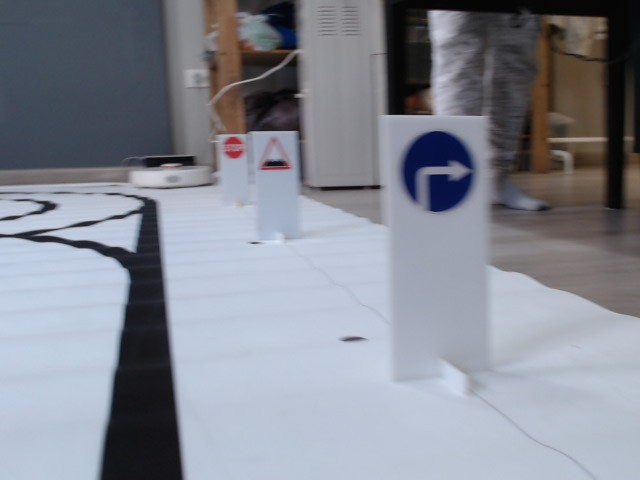Nerov: (259, 136, 292, 172)
Right: (400, 130, 477, 216)
Stop: (223, 137, 246, 160)
